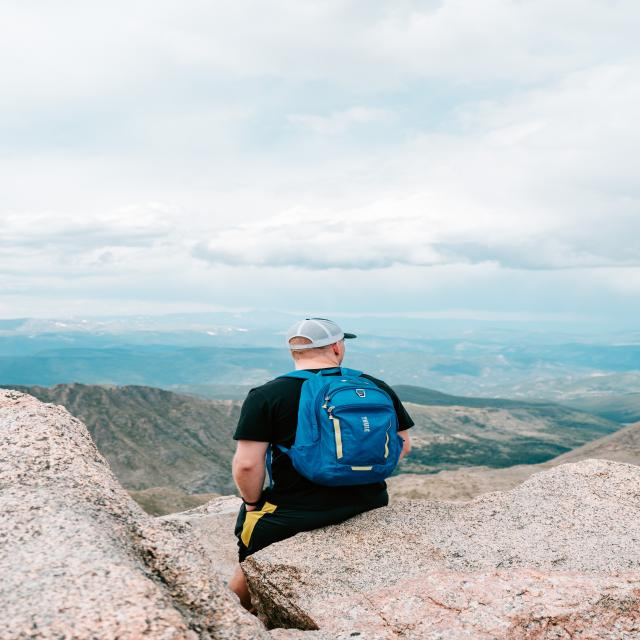backpack: (261, 373, 401, 483)
